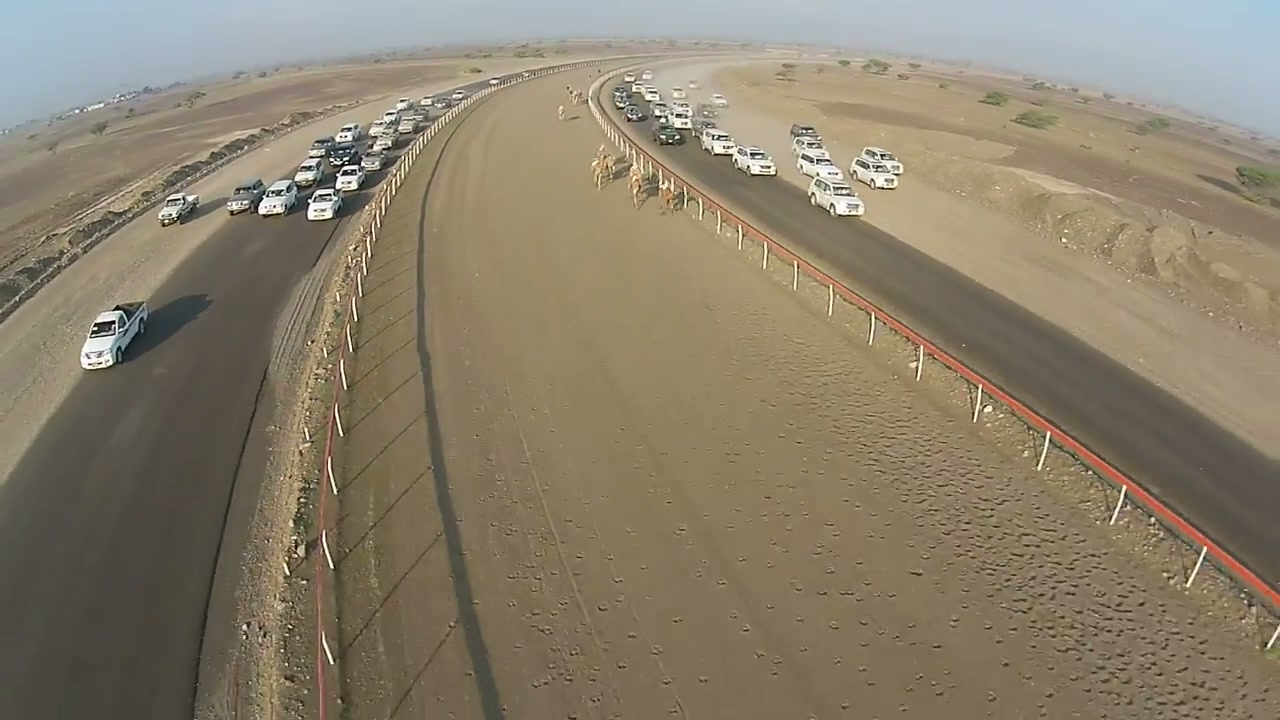animal_footprint: (722, 296, 1250, 719)
